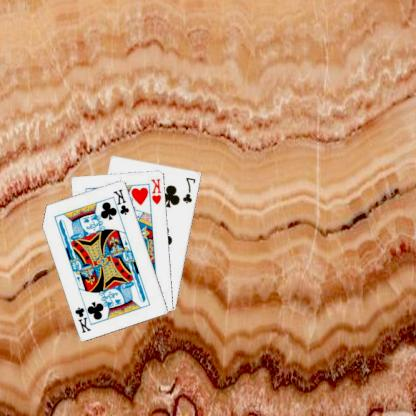7C: (182, 174, 199, 205)
KC: (74, 299, 96, 334), (112, 186, 132, 221)
KH: (150, 176, 165, 206)
